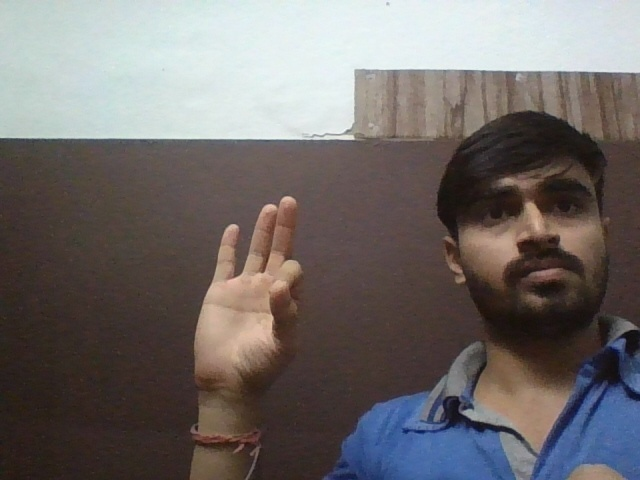F: (188, 194, 319, 396)
